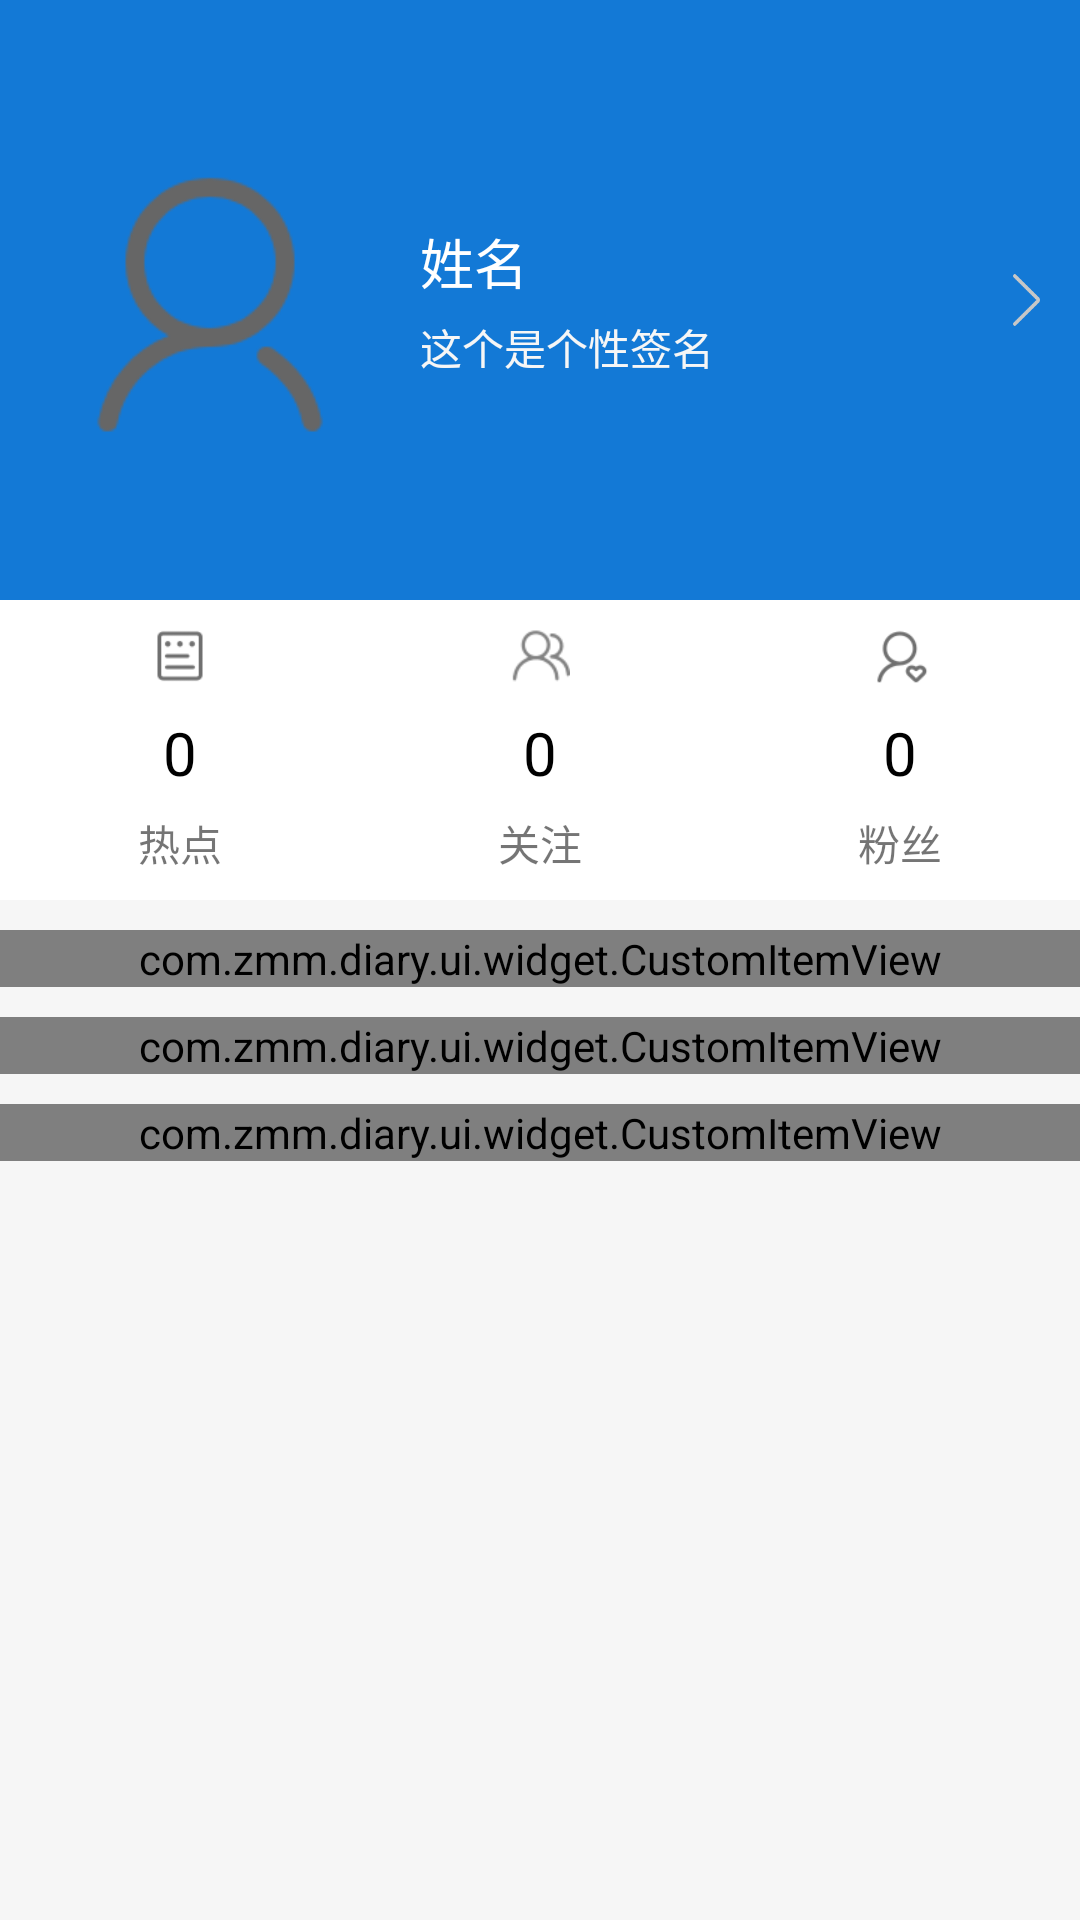

Named icons in this screenshot (1080px×1920px) and their bounding boxes, (x1, y1, x2, y2):
followers: (513, 630, 570, 681)
funs: (877, 631, 927, 683)
right: (1013, 274, 1040, 326)
